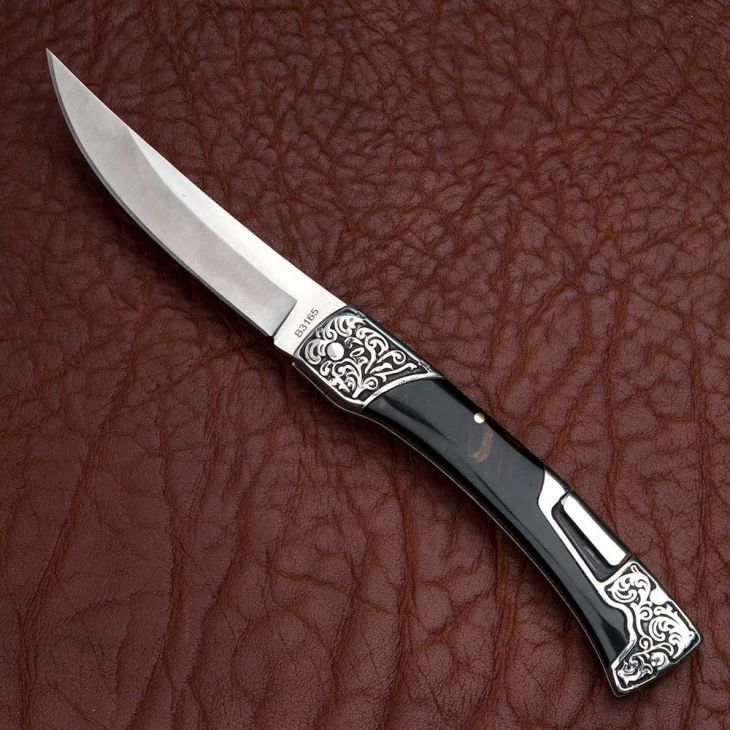knife: (36, 39, 707, 699)
